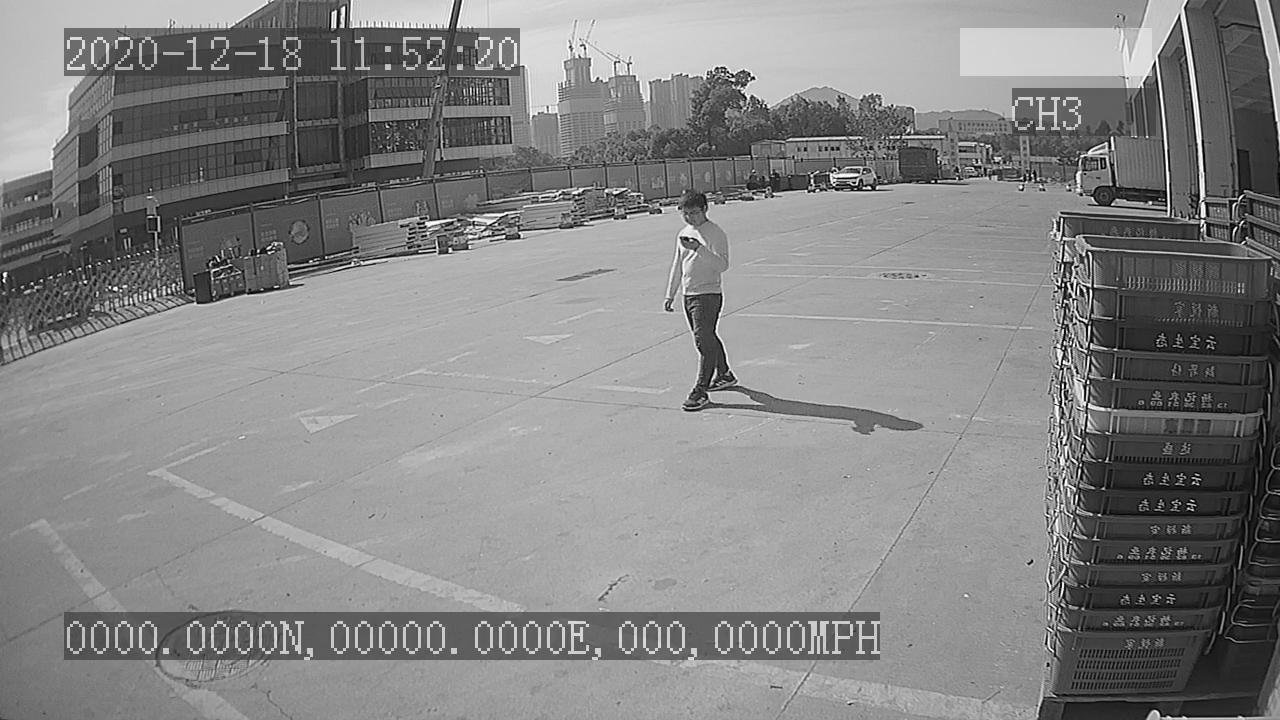person: (658, 190, 742, 419)
